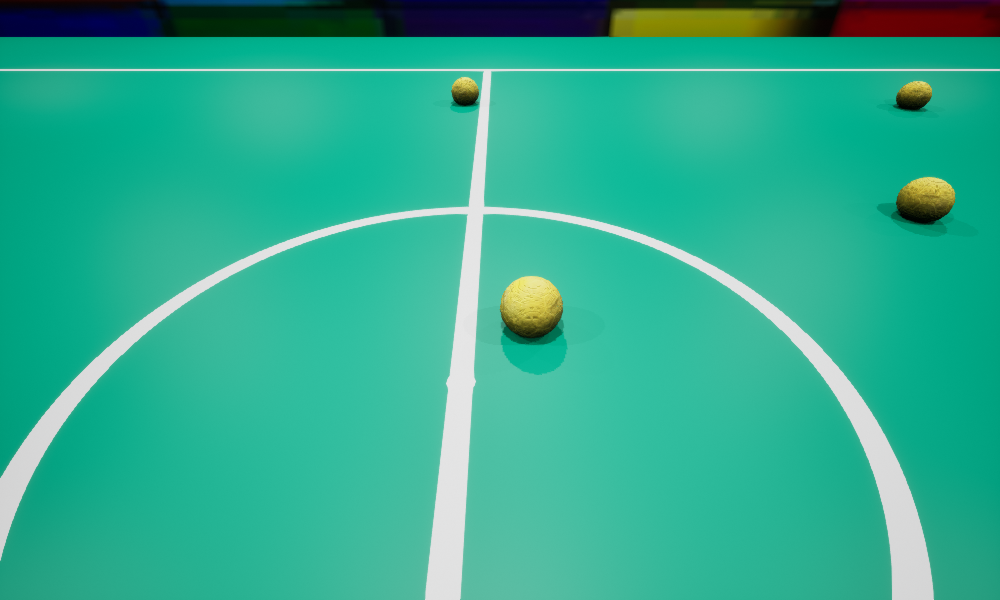b: (500, 276, 562, 337), (896, 177, 955, 222), (896, 81, 931, 109), (451, 77, 478, 104)
